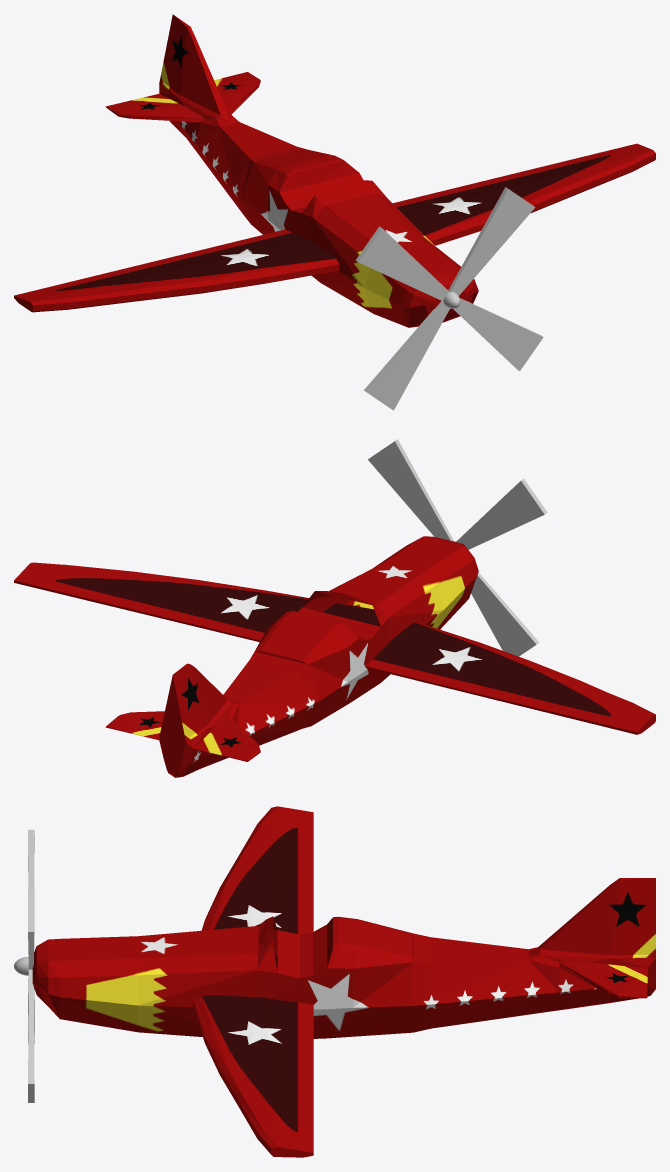
File: cartoonAriplane.obj
3 renders of one model, top to bottom at view 1: azimuth 30°, elevation 25°; view 2: azimuth 150°, elevation 25°; view 3: azimuth 270°, elevation 25°, orthographic. The views are drawn at different scales.
Visible parts, largest first — view 1: Plane_Cube.002, Helice_Sphere.001; view 2: Plane_Cube.002, Helice_Sphere.001; view 3: Plane_Cube.002, Helice_Sphere.001.
Boxes of the visible parts, bbox=[...] form: Plane_Cube.002: bbox=[14, 14, 655, 327]; Helice_Sphere.001: bbox=[355, 187, 543, 410]; Plane_Cube.002: bbox=[14, 536, 655, 777]; Helice_Sphere.001: bbox=[368, 439, 547, 656]; Plane_Cube.002: bbox=[32, 806, 655, 1157]; Helice_Sphere.001: bbox=[14, 829, 34, 1102].
Bounding box in the file's own units: 11.73 × 3.48 × 9.34.
Materials: 2 (1 with a texture image).
